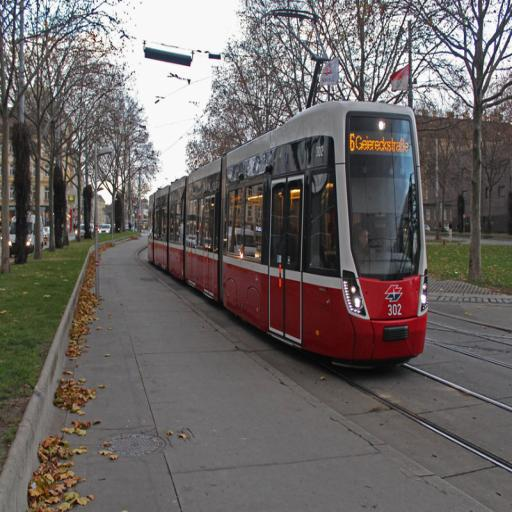Flexity: (144, 98, 432, 369)
